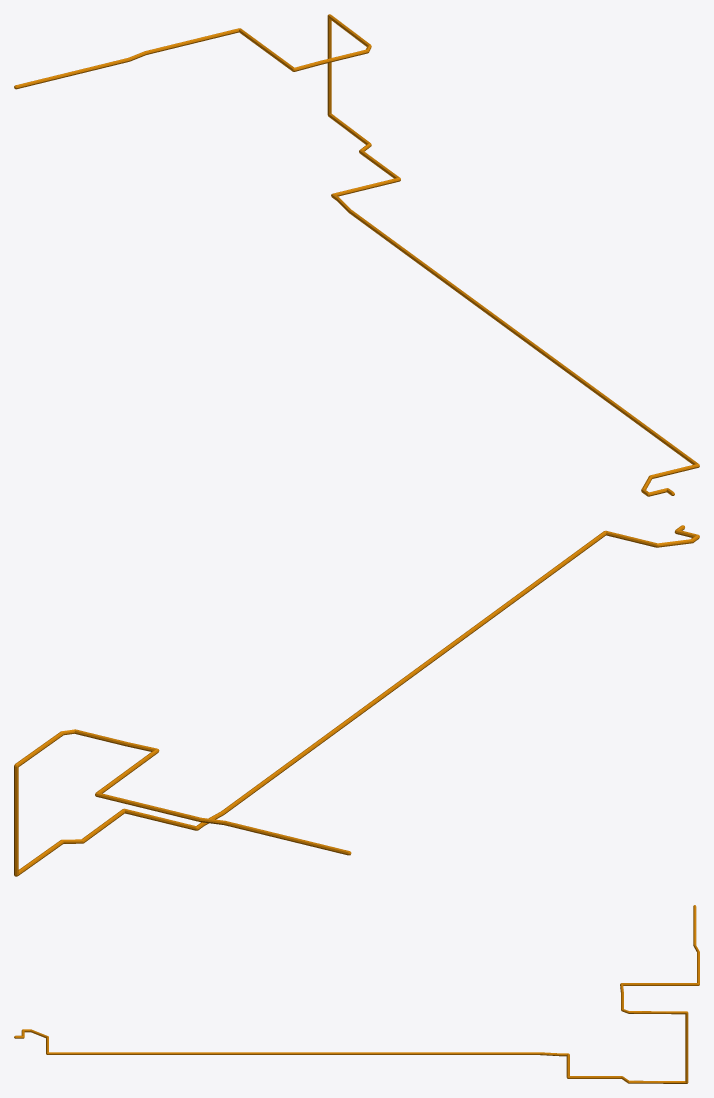
3 views of the same model, one above another, from view 1: azimuth 30°, elevation 25°; view 2: azimuth 150°, elevation 25°; view 3: azimuth 270°, elevation 25° (orthographic). The views are drawn at different scales.
Bounding box in the file's own units: 1655 × 520 × 4459.
